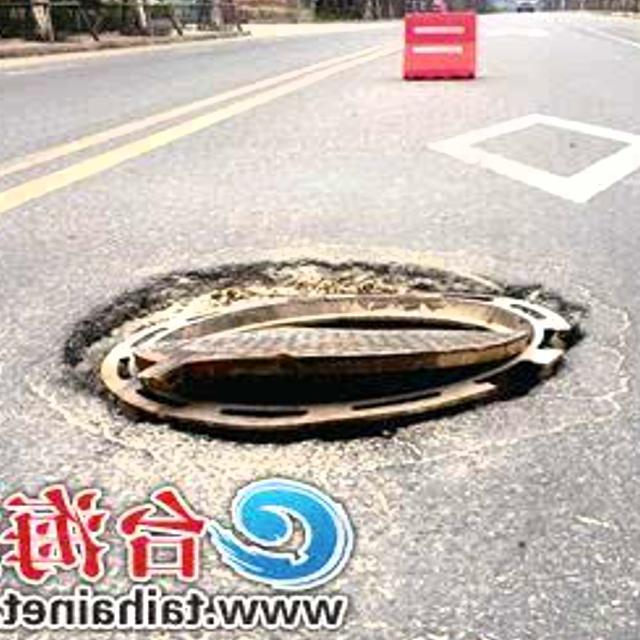circle: (0, 237, 640, 486)
